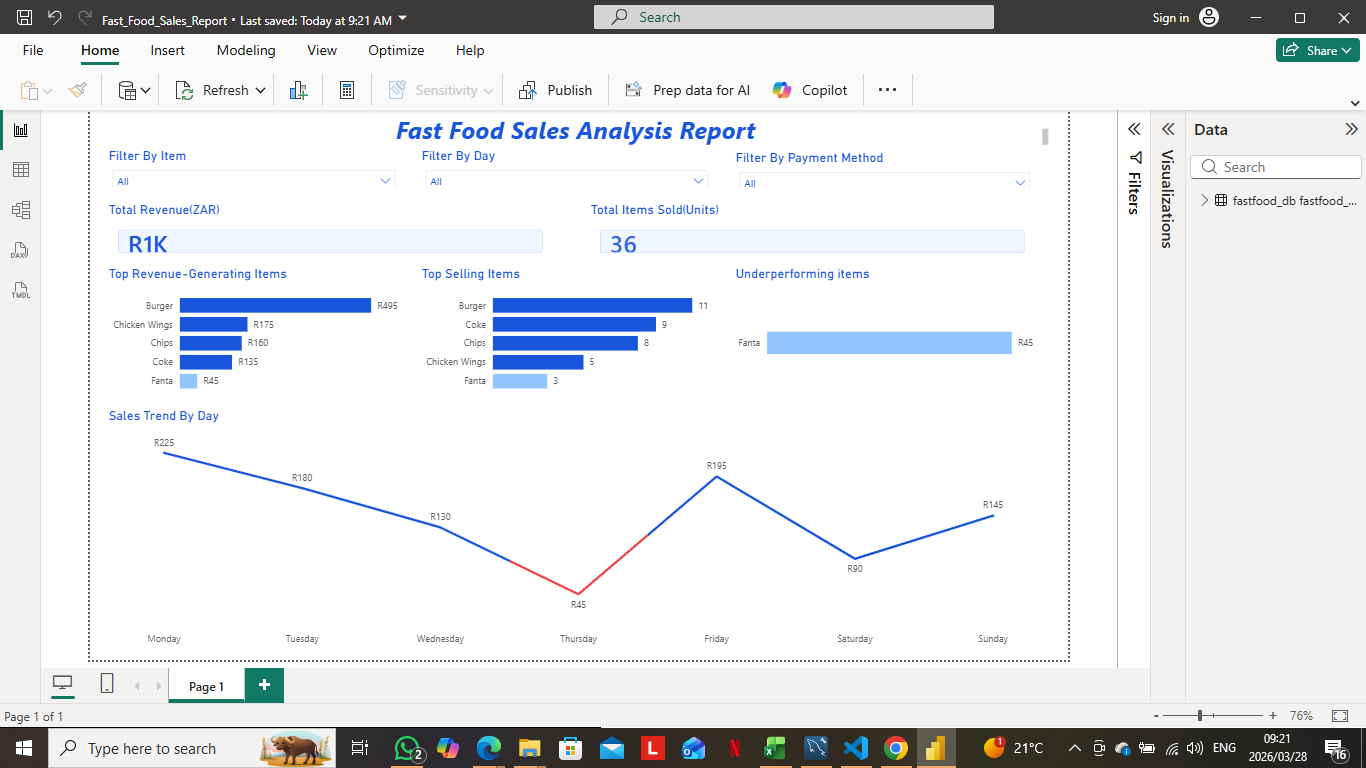

The page's visual inventory and layout, read from the dashboard file:
{"tool":"powerbi","page":{"name":"Page 1","canvas":[1280,720],"ordinal":0},"visuals":[{"type":"clusteredBarChart","title":"Top Revenue-Generating Items","fields":{"Category":["fastfood_db fastfood_sales.item_name"],"Y":["Sum(fastfood_db fastfood_sales.revenue)"]},"box":[20,204,390,176],"z":0},{"type":"clusteredBarChart","title":"Top Selling Items","fields":{"Category":["fastfood_db fastfood_sales.item_name"],"Y":["Sum(fastfood_db fastfood_sales.quantity)"]},"box":[430,204,390,176],"z":1000},{"type":"lineChart","title":"Sales Trend By Day","fields":{"Y":["Sum(fastfood_db fastfood_sales.revenue)"],"Category":["fastfood_db fastfood_sales.DayName"]},"box":[20,390,1240,320],"z":2000},{"type":"slicer","title":"Filter By Item","fields":{"Values":["fastfood_db fastfood_sales.item_name"]},"box":[20,50,390,52],"z":3000},{"type":"slicer","title":"Filter By Day","fields":{"Values":["fastfood_db fastfood_sales.DayName"]},"box":[430,50,390,52],"z":4000},{"type":"slicer","title":"Filter By Payment Method","fields":{"Values":["fastfood_db fastfood_sales.payment_method"]},"box":[840,53,400,49],"z":5000},{"type":"textbox","box":[20,10,1240,40],"z":6000},{"type":"clusteredBarChart","title":"Underperforming items","fields":{"Y":["Sum(fastfood_db fastfood_sales.revenue)"],"Category":["fastfood_db fastfood_sales.item_name"]},"box":[840,204,400,176],"z":7000},{"type":"cardVisual","title":"Total Revenue(ZAR)","fields":{"Data":["Sum(fastfood_db fastfood_sales.revenue)"]},"box":[20,120,590,84],"z":8000},{"type":"cardVisual","title":"Total Items Sold(Units)","fields":{"Data":["Sum(fastfood_db fastfood_sales.quantity)"]},"box":[650,120,590,84],"z":9000}]}

Visuals, with their boxes on the page's 1280x720 design canvas (x1, y1, x2, y2). These are canvas units, not pixel positions in the 1366x768 screenshot, which may show the page scaled, cropped or inside an application window:
"Top Revenue-Generating Items" clusteredBarChart: <bbox>20, 204, 410, 380</bbox>
"Top Selling Items" clusteredBarChart: <bbox>430, 204, 820, 380</bbox>
"Sales Trend By Day" lineChart: <bbox>20, 390, 1260, 710</bbox>
"Filter By Item" slicer: <bbox>20, 50, 410, 102</bbox>
"Filter By Day" slicer: <bbox>430, 50, 820, 102</bbox>
"Filter By Payment Method" slicer: <bbox>840, 53, 1240, 102</bbox>
textbox: <bbox>20, 10, 1260, 50</bbox>
"Underperforming items" clusteredBarChart: <bbox>840, 204, 1240, 380</bbox>
"Total Revenue(ZAR)" cardVisual: <bbox>20, 120, 610, 204</bbox>
"Total Items Sold(Units)" cardVisual: <bbox>650, 120, 1240, 204</bbox>
